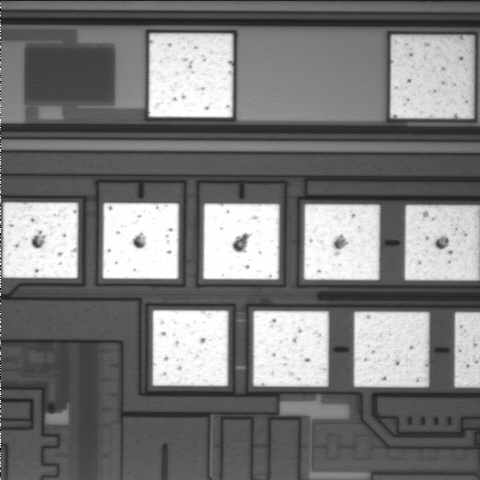pad: (149, 33, 233, 117), (390, 35, 474, 118), (2, 202, 78, 278), (103, 203, 179, 279), (304, 204, 380, 280), (253, 311, 329, 387), (203, 204, 279, 279), (153, 310, 228, 386), (354, 312, 429, 387)
